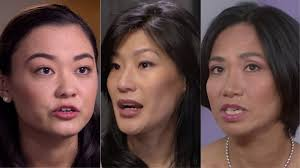asian_female: (107, 1, 187, 153)
